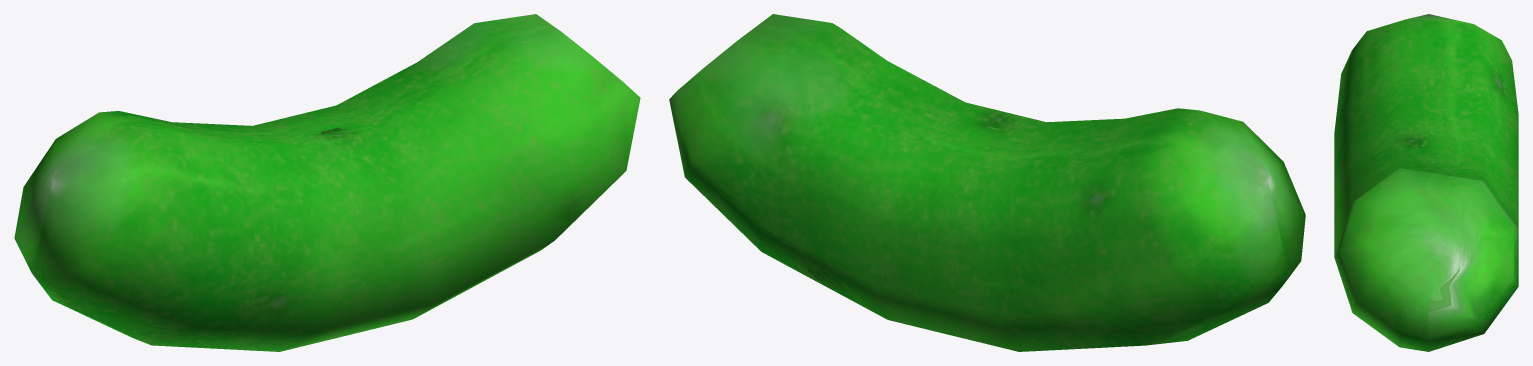
The model's file is Cucumber.fbx.
The picture shows the model from 3 angles, left to right: view 1: azimuth 30°, elevation 25°; view 2: azimuth 150°, elevation 25°; view 3: azimuth 270°, elevation 25°; orthographic projection. The views are drawn at different scales.
Visible parts, largest first — view 1: Cucumber; view 2: Cucumber; view 3: Cucumber.
Boxes of the visible parts, bbox=[...] form: Cucumber: bbox=[14, 14, 640, 351]; Cucumber: bbox=[669, 14, 1305, 351]; Cucumber: bbox=[1334, 14, 1518, 351].
Size of the model in its own units: 2.44 by 0.9892 by 0.7958.
